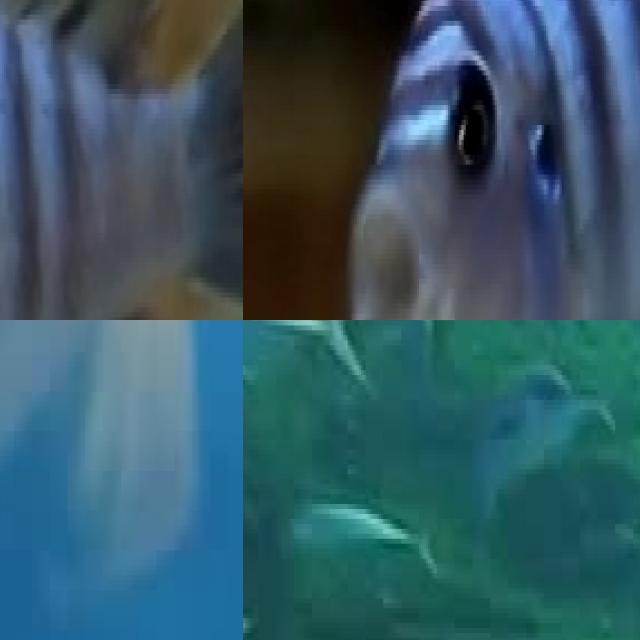fish: (338, 0, 640, 320), (0, 0, 243, 320)
